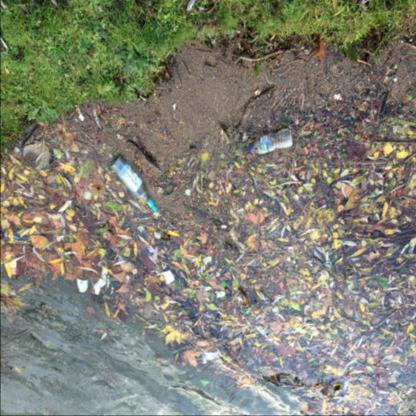Bottle cap: (110, 154, 158, 212), (248, 128, 292, 154)
Plastic bag - wrapper: (4, 254, 26, 278), (13, 236, 30, 244)
Unlabeled litter: (76, 276, 88, 292)
